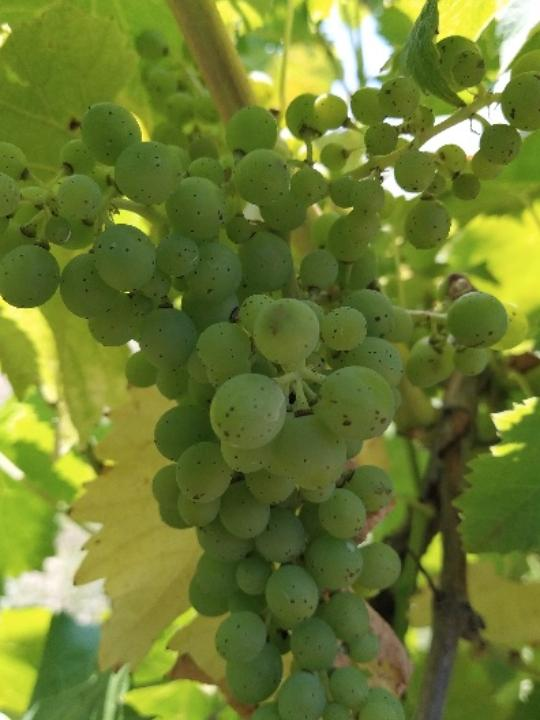grape: (0, 35, 540, 720)
